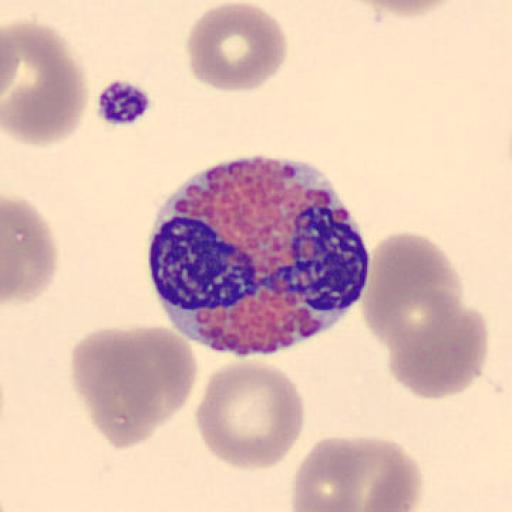Platelet: (92, 76, 155, 128)
RBC: (365, 250, 488, 400), (69, 324, 196, 452), (194, 359, 307, 472), (360, 230, 464, 350), (1, 18, 90, 147), (383, 294, 490, 400), (185, 2, 287, 93), (115, 324, 199, 422), (321, 433, 424, 512), (2, 194, 58, 307), (291, 434, 366, 512), (350, 436, 424, 512), (348, 0, 462, 18), (1, 22, 22, 99)
WBC: (144, 156, 370, 357)
